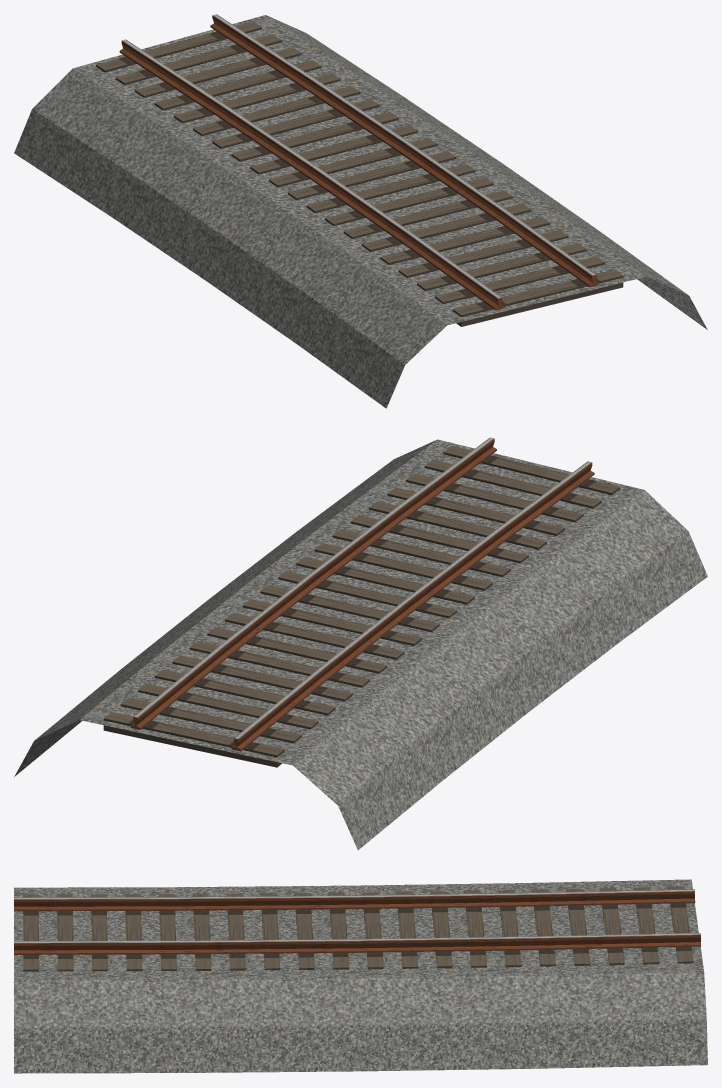
File: rail_track_curve_r175_10m_l_v2.glb
3 renders of one model, top to bottom at view 1: azimuth 30°, elevation 25°; view 2: azimuth 150°, elevation 25°; view 3: azimuth 270°, elevation 25°, orthographic. The views are drawn at different scales.
Visible parts, largest first — view 1: rail_track_curve_r175_10m_l_v2; view 2: rail_track_curve_r175_10m_l_v2; view 3: rail_track_curve_r175_10m_l_v2.
Part boxes in pixels (x1,y1,x2,y2): rail_track_curve_r175_10m_l_v2: (14,14,707,408); rail_track_curve_r175_10m_l_v2: (14,437,707,849); rail_track_curve_r175_10m_l_v2: (14,879,707,1073).
Size of what is drawn, in the model's own units: 5.43 by 1.27 by 10.14.
Materials: 2 (2 with a texture image).
